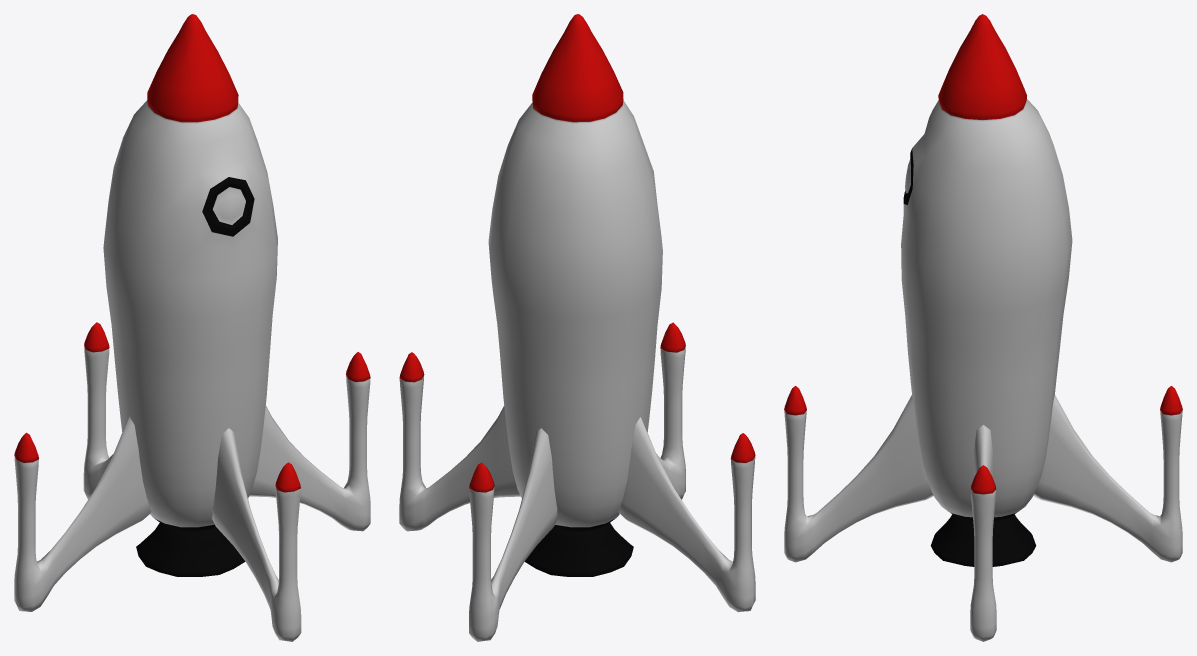
Rendered from rocket.obj.
The picture shows the model from 3 angles, left to right: view 1: azimuth 30°, elevation 25°; view 2: azimuth 150°, elevation 25°; view 3: azimuth 270°, elevation 25°; orthographic projection.
Visible parts, largest first — view 1: rocket_Cube.001; view 2: rocket_Cube.001; view 3: rocket_Cube.001.
Boxes of the visible parts, x1=… form: rocket_Cube.001: x1=14, y1=14, x2=370, y2=641; rocket_Cube.001: x1=399, y1=14, x2=755, y2=641; rocket_Cube.001: x1=784, y1=14, x2=1182, y2=641.
Size of the model in its own units: 6.81 by 10.3 by 6.81.
